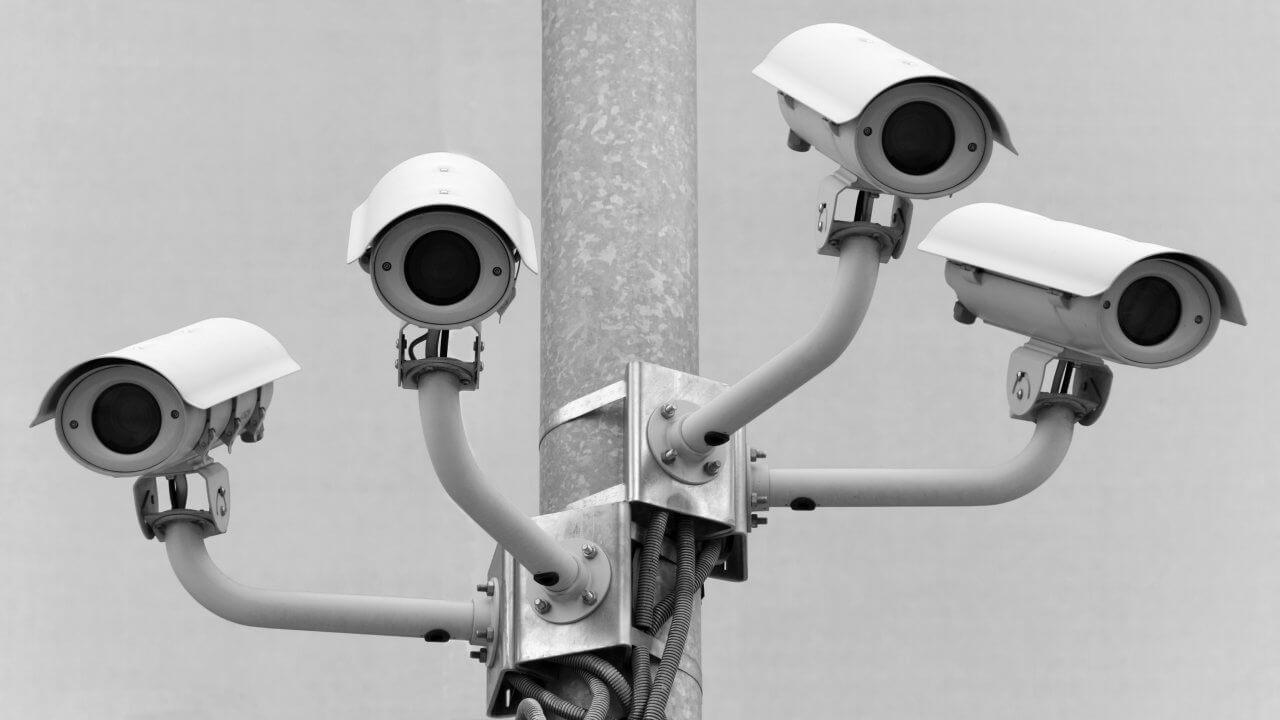CCTV: (920, 203, 1248, 425), (755, 21, 1016, 261), (30, 317, 299, 540), (347, 152, 538, 389)
